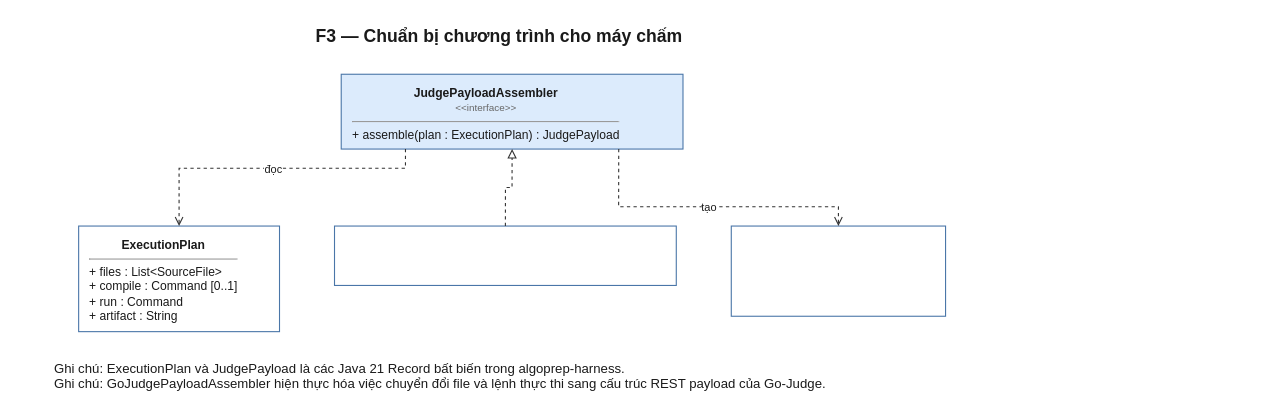
Image size: 1280x420. Some labels were removed from this diagram. Each missing label, with the centre of its shape:
"GoJudgePayloadAssembler + assemble(plan : ExecutionPlan) : JudgePayload" goes at (504,255).
"JudgePayload + engine : String + body : Map<String, Object> + artifact : String" goes at (838,270).
